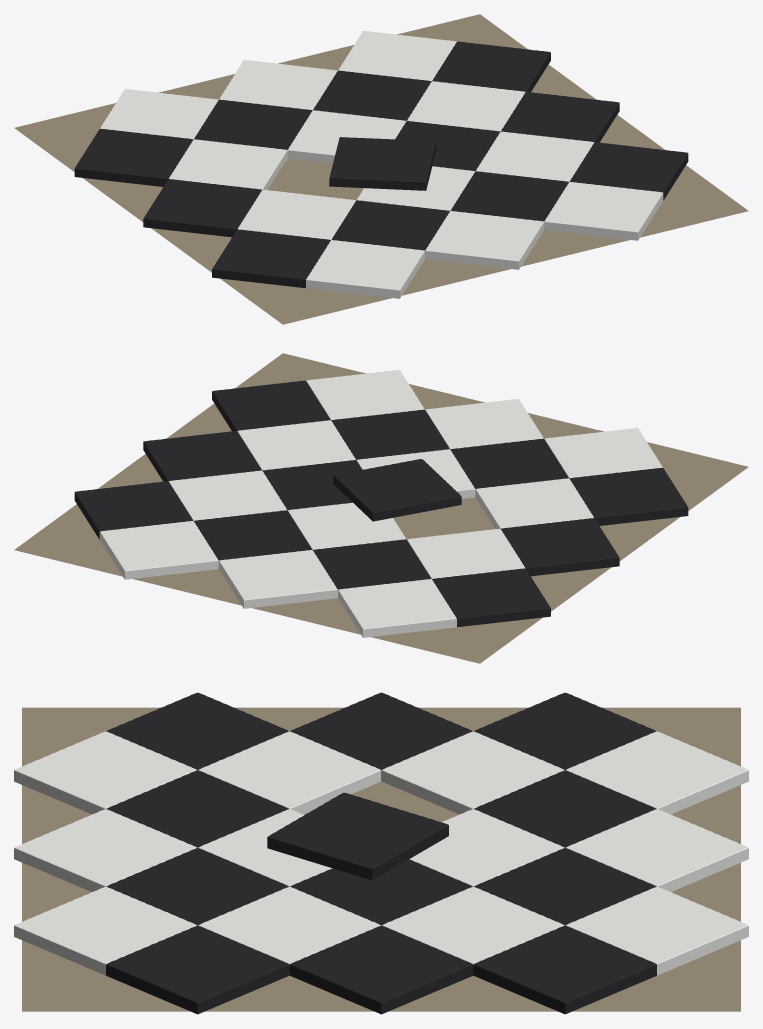
Rendered from terilgan.glb.
The picture shows the model from 3 angles, top to bottom: view 1: azimuth 30°, elevation 25°; view 2: azimuth 150°, elevation 25°; view 3: azimuth 270°, elevation 25°; orthographic projection. The views are drawn at different scales.
Visible parts, largest first — view 1: qum, t.006, t.002, t, t.009, t.001, t.011, t.005, t.012, t.022, t.018, t.010 (+13 smaller); view 2: qum, t.009, t.021, t.023, t.017, t.011, t.001, t.005, t.022, t.012, t.018, t.004 (+13 smaller); view 3: qum, t.018, t.012, t.022, t.009, t.006, t.023, t.002, t.021, t.010, t, t.017 (+13 smaller).
Part boxes in pixels (<box>): qum: <box>14,14,748,324</box>; t.006: <box>544,182,663,240</box>; t.002: <box>425,211,544,269</box>; t: <box>306,240,424,298</box>; t.009: <box>329,137,436,190</box>; t.001: <box>212,229,330,288</box>; t.011: <box>74,128,193,186</box>; t.005: <box>143,179,261,237</box>; t.012: <box>569,142,688,200</box>; t.022: <box>432,41,550,92</box>; t.018: <box>501,92,619,142</box>; t.010: <box>169,139,287,189</box>; qum: <box>14,353,748,663</box>; t.009: <box>333,459,461,521</box>; t.021: <box>218,550,337,608</box>; t.023: <box>99,521,218,579</box>; t.017: <box>338,579,456,637</box>; t.011: <box>432,568,550,627</box>; t.001: <box>569,467,688,525</box>; t.005: <box>501,518,619,576</box>; t.022: <box>74,481,193,539</box>; t.012: <box>212,380,330,431</box>; t.018: <box>143,431,261,481</box>; t.004: <box>475,478,593,528</box>; qum: <box>22,707,740,1011</box>; t.018: <box>289,925,473,1014</box>; t.012: <box>106,925,289,1014</box>; t.022: <box>473,925,656,1014</box>; t.009: <box>267,792,448,880</box>; t.006: <box>14,886,196,975</box>; t.023: <box>566,886,748,975</box>; t.002: <box>14,809,196,891</box>; t.021: <box>566,809,748,891</box>; t.010: <box>381,731,564,814</box>; t: <box>14,731,196,814</box>; t.017: <box>566,731,748,814</box>.
Bounding box in the file's own units: 1.7 × 0.062 × 1.7.
